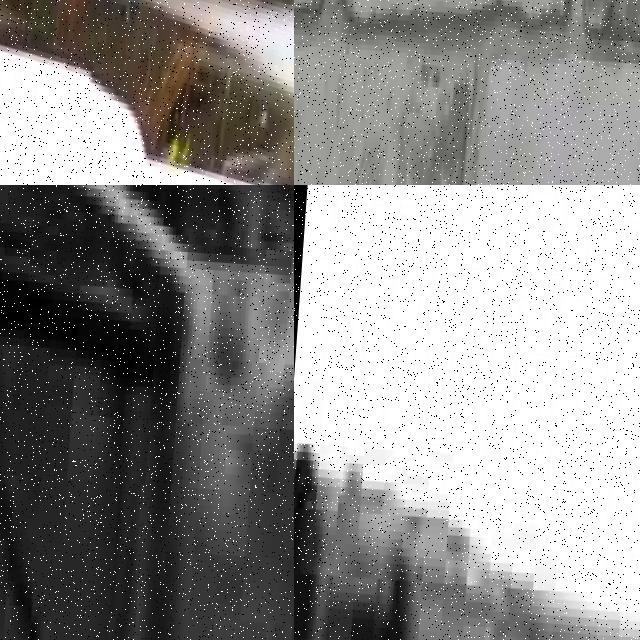drone: (0, 0, 294, 185)
